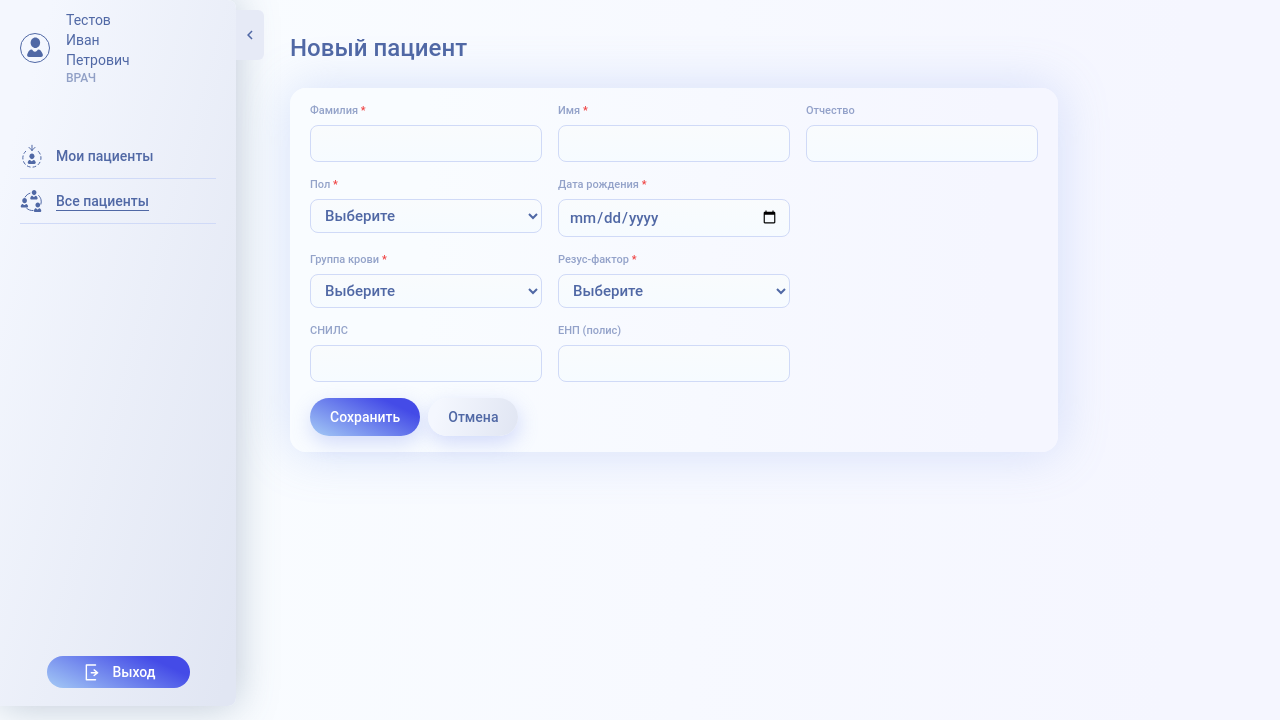
Test: карточка пациента › создаёт пациента и возвращается в реестр
Type "Иванов" into the field labelled "Фамилия *" at (426, 143), box [310,125,542,162]
Type "Иван" into the field labelled "Имя *" at (674, 143), box [558,125,790,162]
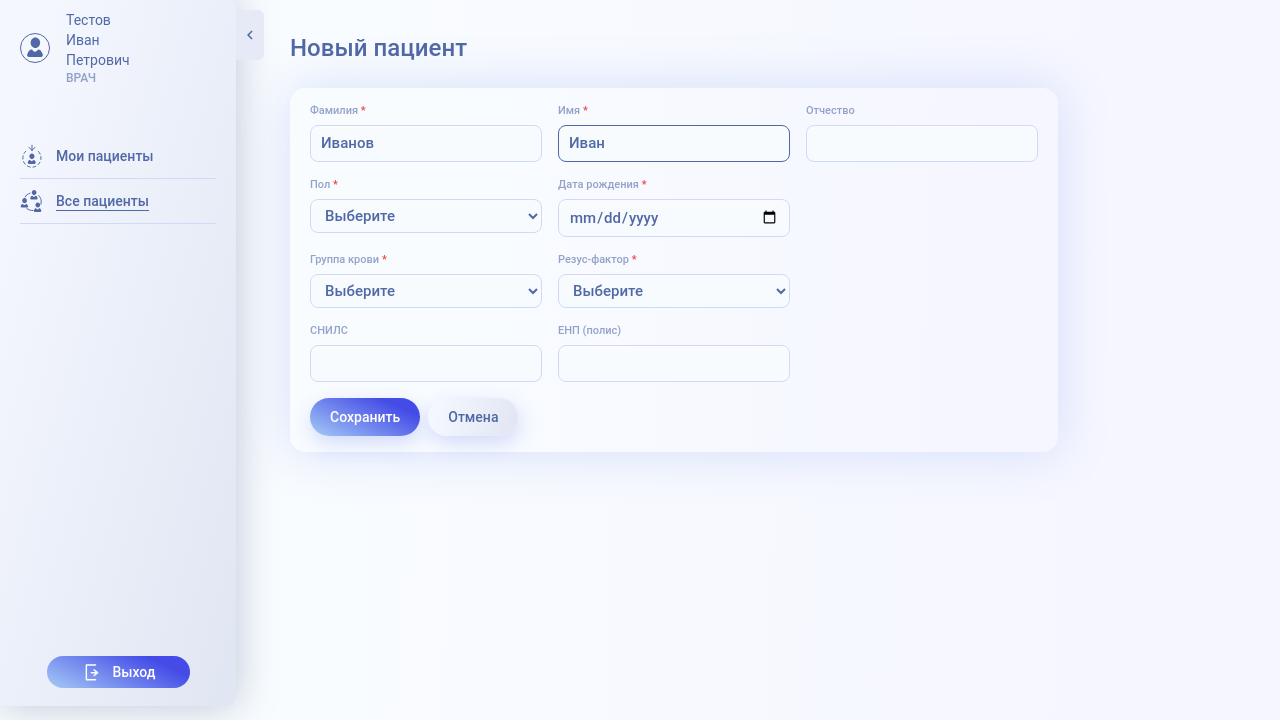
Select "Мужской" in the dropdown labelled "Пол *" at (426, 216), box [310,198,542,232]
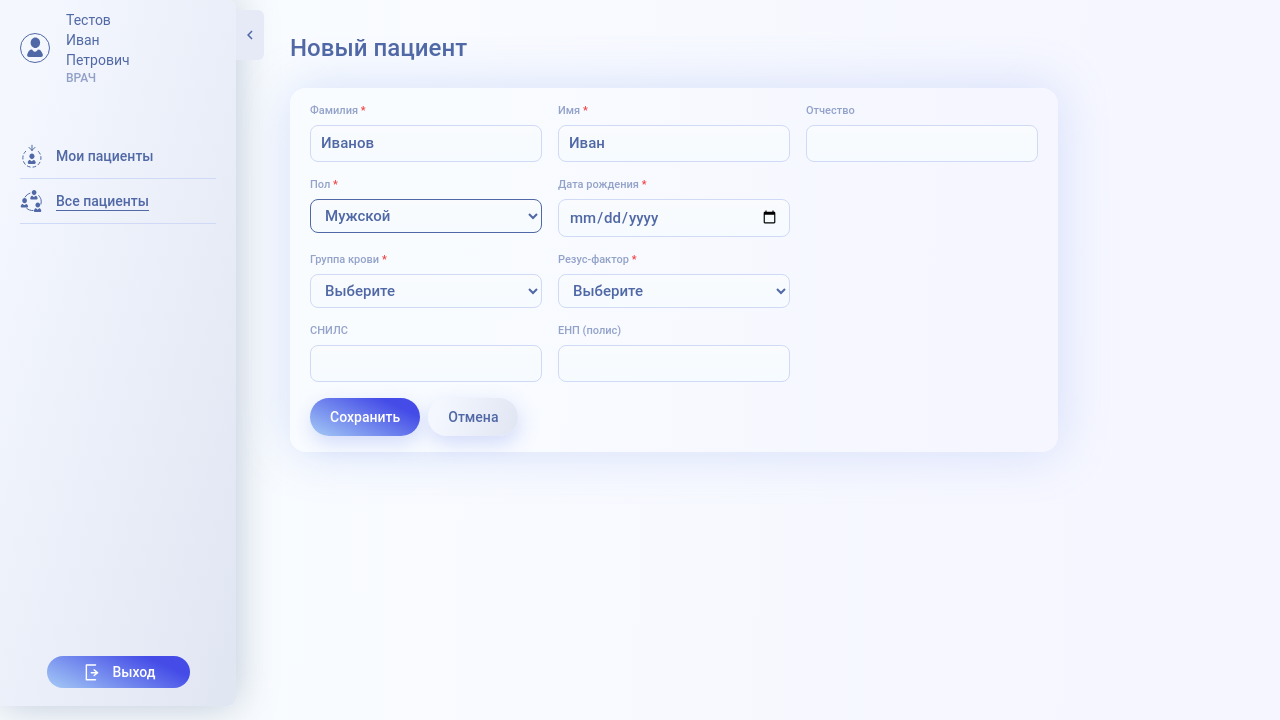
Type "1980-05-17" into the date field labelled "Дата рождения *" at (674, 218), box [558,198,790,237]
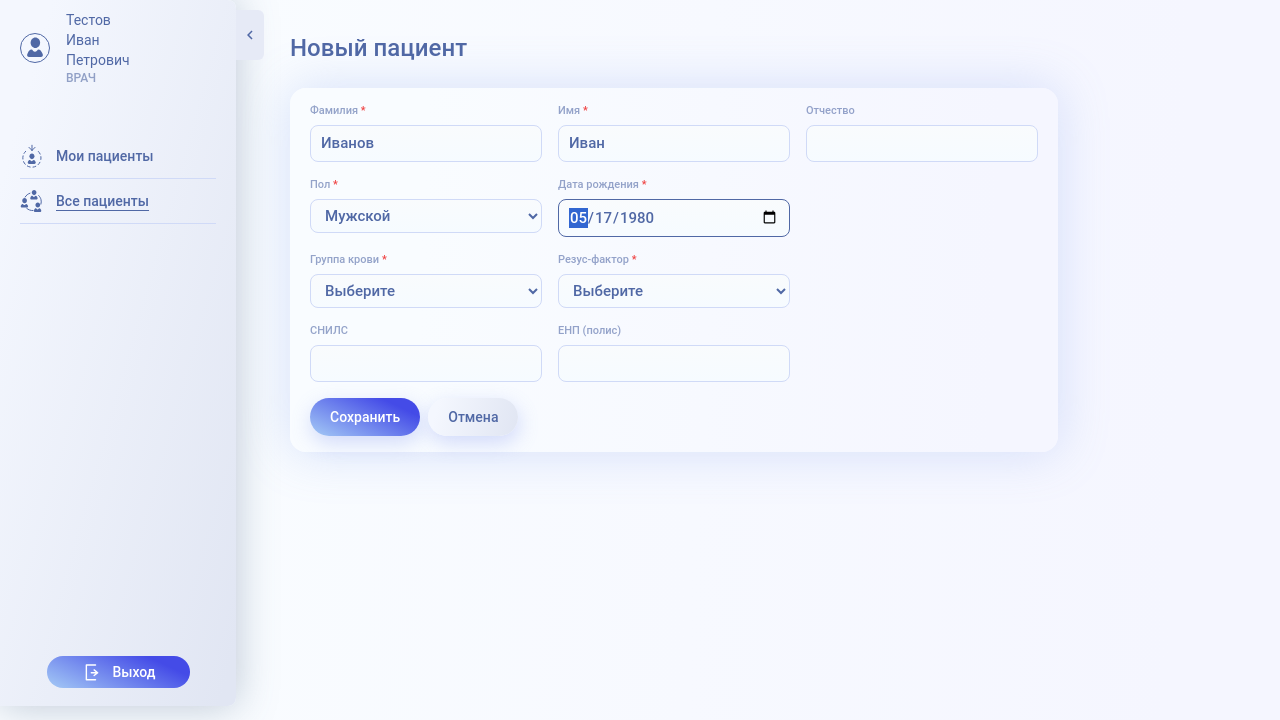
Select "Мужской" in the dropdown labelled "Группа крови *" at (426, 291), box [310,274,542,308]
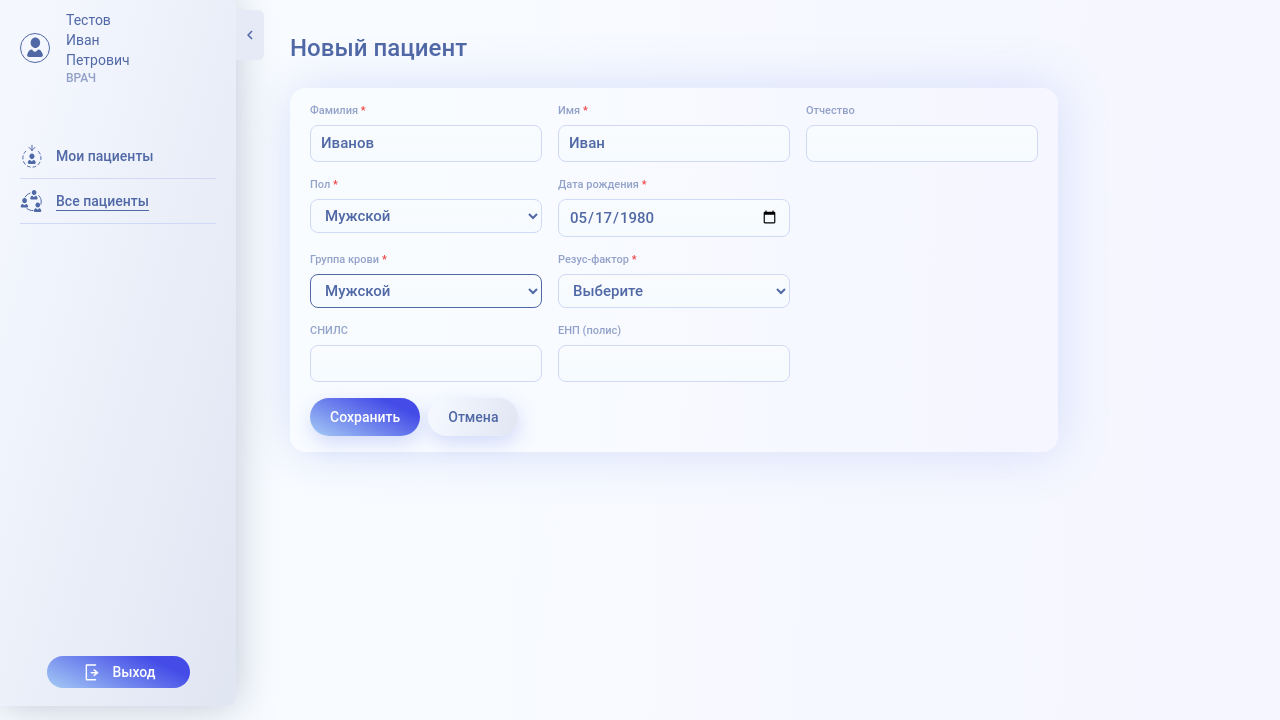
Select "Женский" in the dropdown labelled "Резус-фактор *" at (674, 291), box [558,274,790,308]
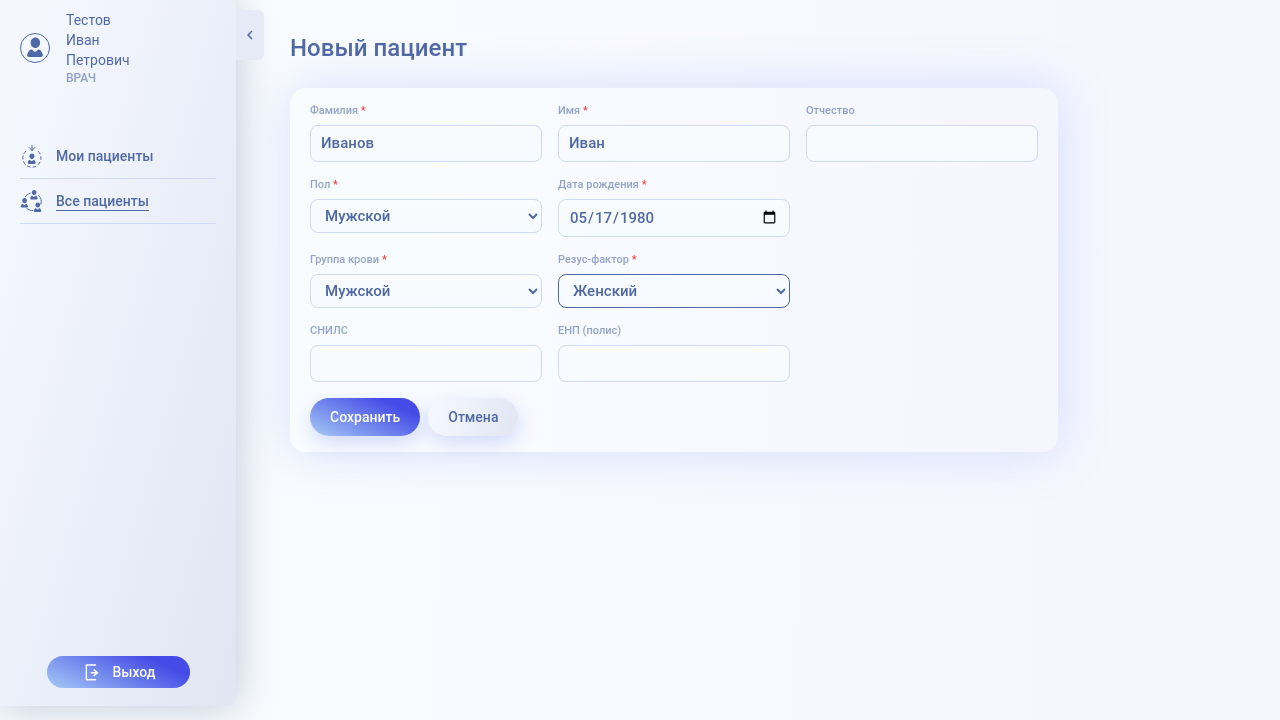
Click the button "Сохранить" at (365, 416), box [310,398,420,436]
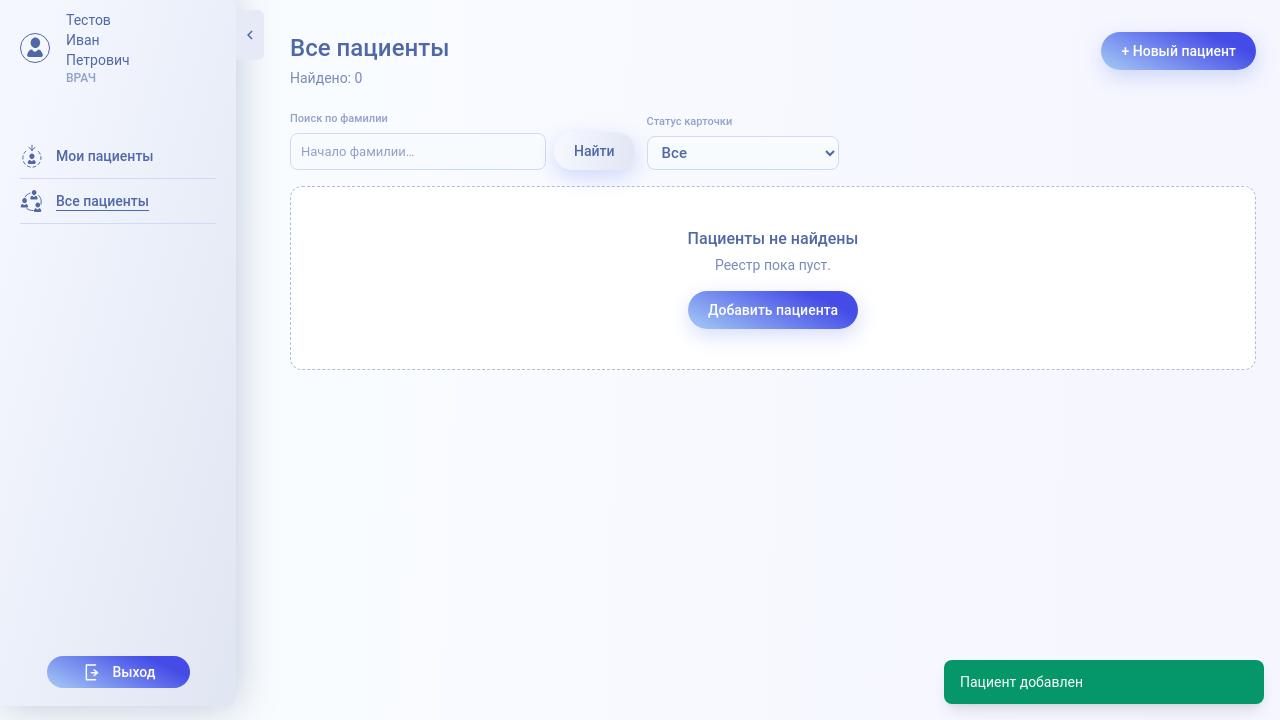
Expected: the heading "Все пациенты" is shown, [290,32,450,64]
